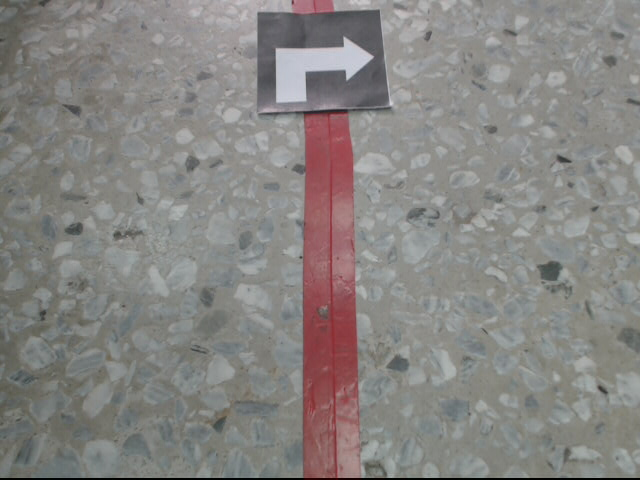right: (255, 9, 389, 112)
